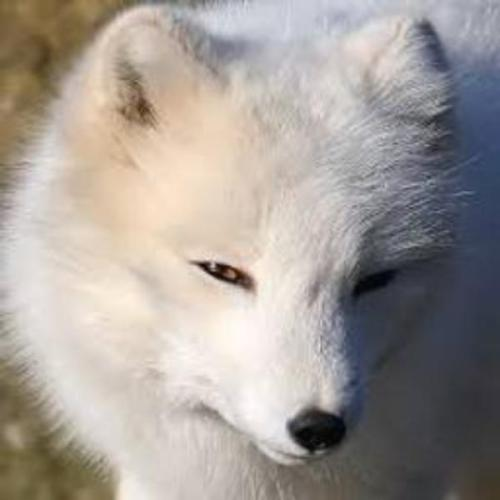arctic_fox-endangered: (59, 18, 499, 479)
